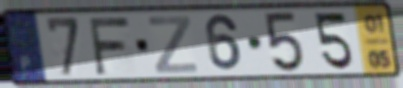5: (262, 10, 306, 74), (312, 11, 356, 72)
6: (203, 13, 244, 75)
7: (43, 15, 82, 79)
F: (86, 15, 132, 77)
Z: (146, 14, 199, 75)
